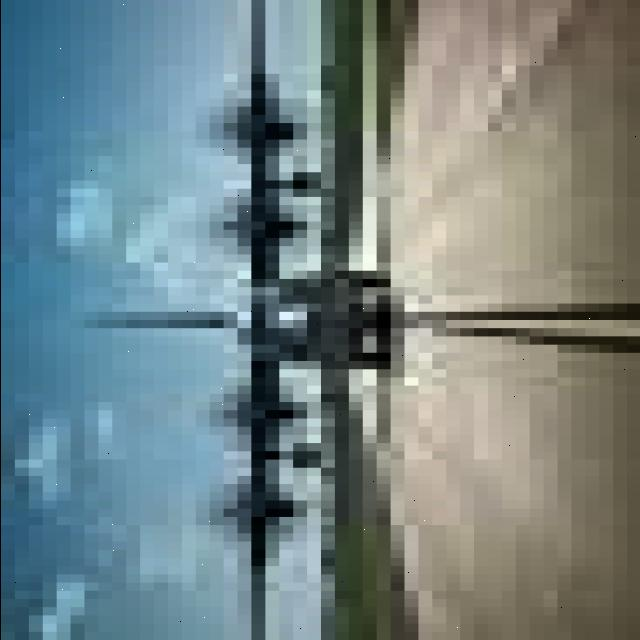C130: (64, 0, 452, 640)
